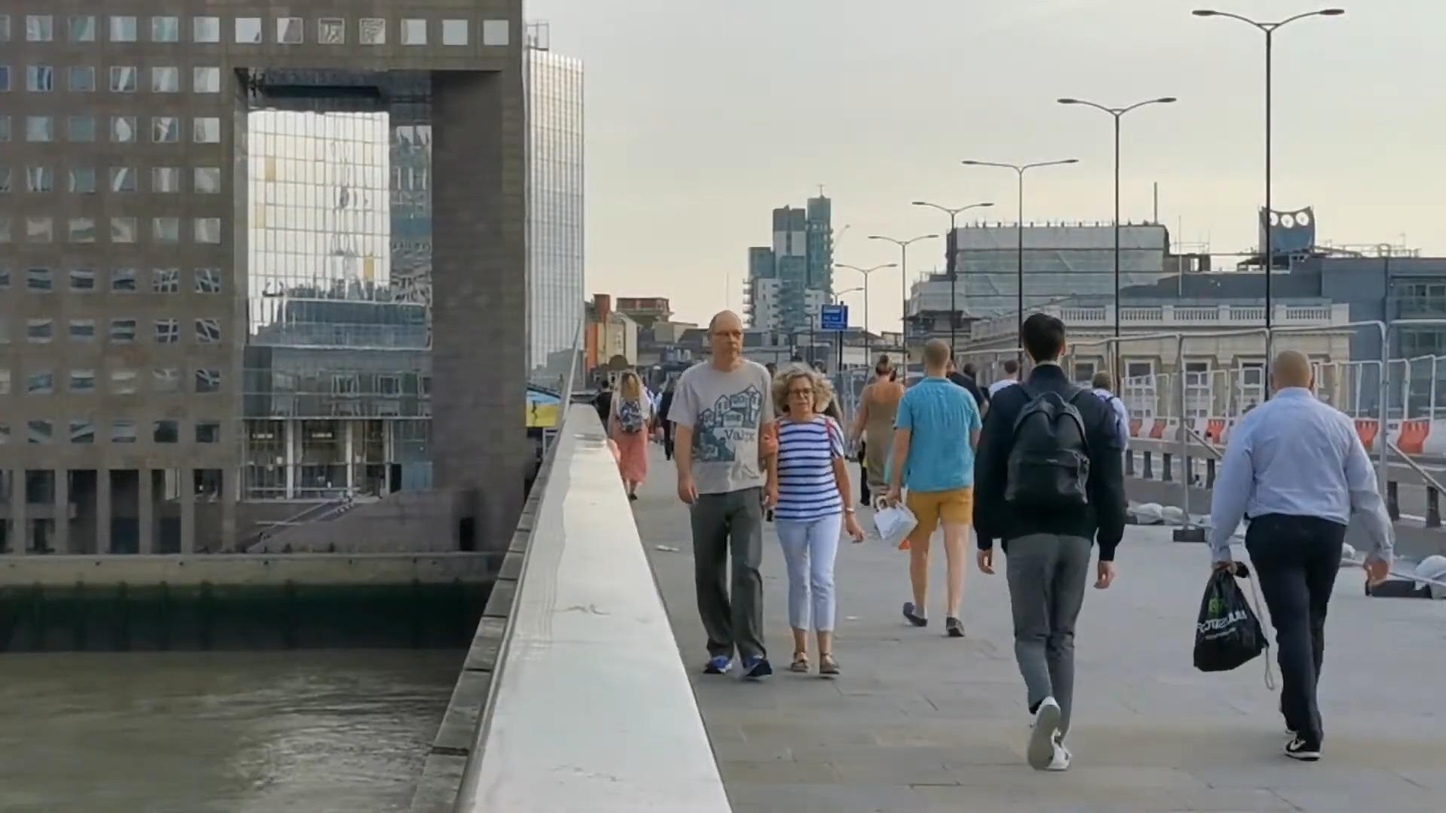no-helmet: (772, 362, 835, 417), (1023, 313, 1066, 367), (707, 309, 744, 364), (1270, 349, 1312, 393), (923, 338, 950, 374), (621, 371, 638, 398), (876, 354, 892, 380)
